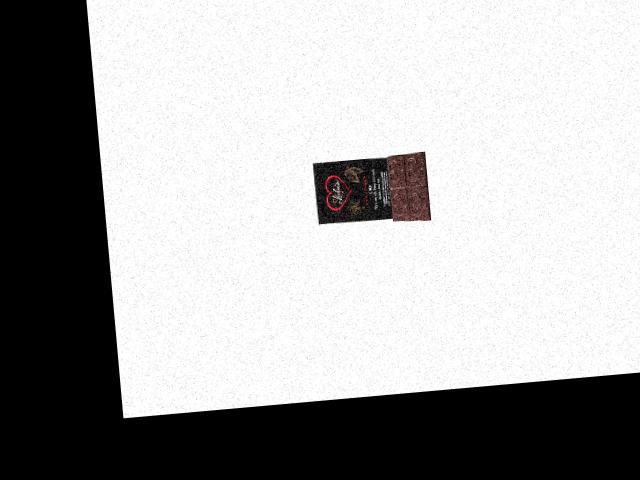chocolate: (311, 149, 436, 235)
